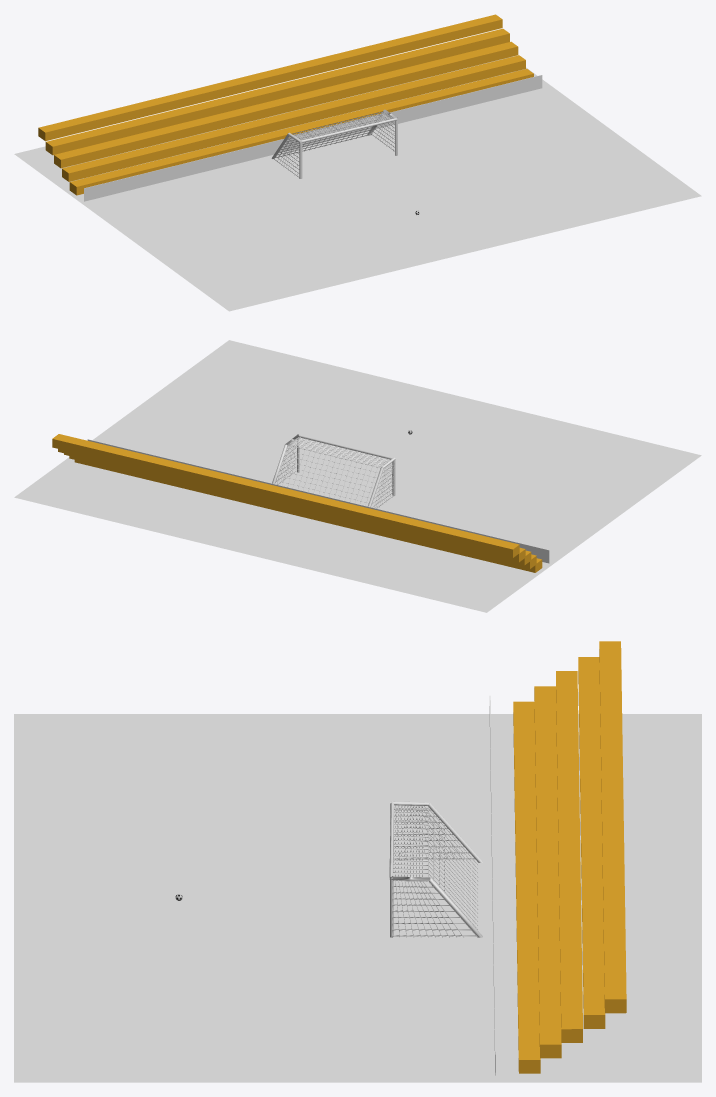
The model's file is FutFavela.fbx.
3 views of the same model, one above another, from view 1: azimuth 30°, elevation 25°; view 2: azimuth 150°, elevation 25°; view 3: azimuth 270°, elevation 25° (orthographic). The views are drawn at different scales.
Parts seen in each view (by area): view 1: Plane, Cube.001, Cube, Plano, Cubo, Plano.001, Cylinder.001; view 2: Plane, Cube.001, Plano, Cubo, Cube, Plano.001, Cylinder.001; view 3: Plane, Cube.001, Plano, Cubo, Plano.001, Cylinder.001.
Part boxes in pixels (x1,y1,x2,y2): Plane: [14, 57, 701, 311]; Cube.001: [38, 14, 533, 195]; Cube: [84, 75, 542, 201]; Plano: [135, 101, 597, 267]; Cubo: [272, 111, 394, 177]; Plano.001: [197, 114, 501, 221]; Cylinder.001: [271, 109, 397, 178]; Plane: [14, 340, 701, 612]; Cube.001: [52, 434, 542, 572]; Plano: [154, 386, 604, 540]; Cubo: [275, 437, 394, 508]; Cube: [87, 439, 549, 563]; Plano.001: [208, 430, 500, 525]; Cylinder.001: [272, 434, 395, 506]; Plane: [14, 714, 701, 1082]; Cube.001: [513, 641, 626, 1073]; Plano: [147, 756, 518, 1034]; Cubo: [392, 805, 478, 937]; Plano.001: [281, 805, 517, 992]; Cylinder.001: [389, 801, 482, 937].
Bounding box in the file's own units: 13092 × 1878 × 10300.
